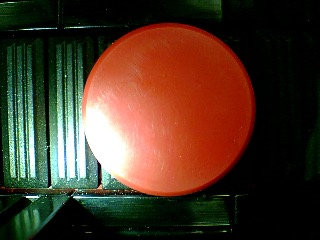BLANK: (81, 22, 256, 197)
